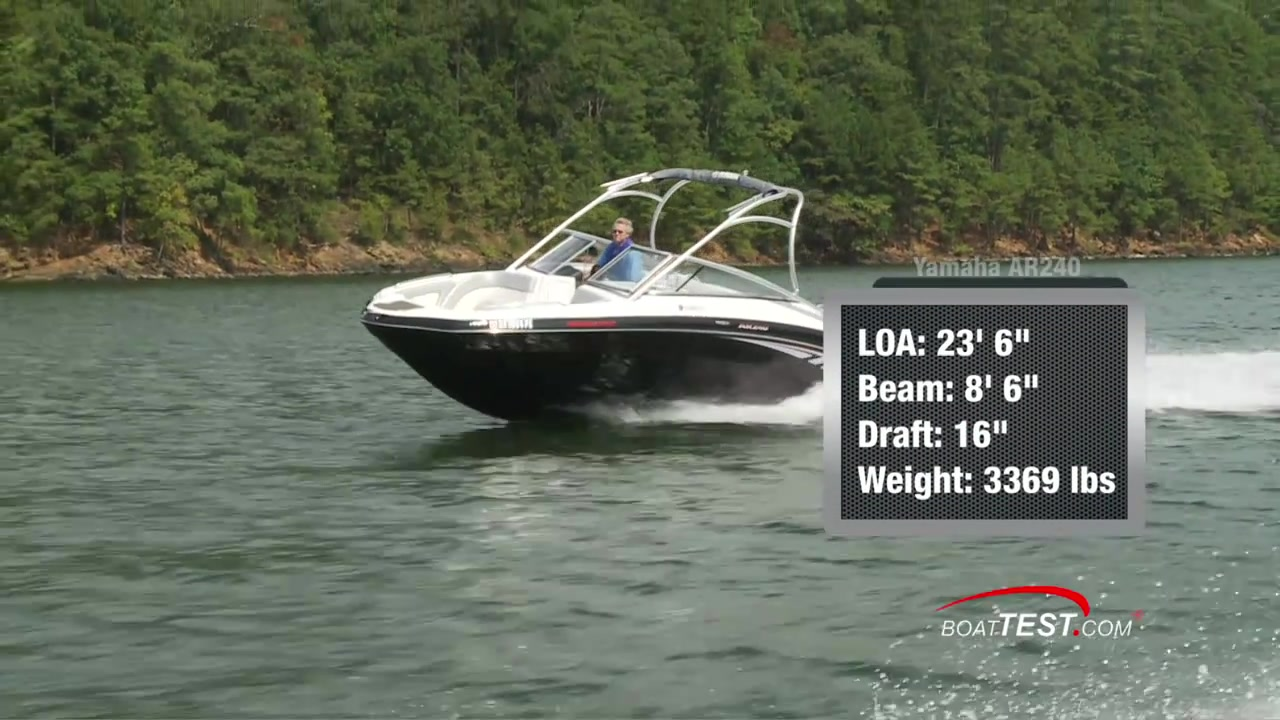boat: (362, 163, 829, 421)
